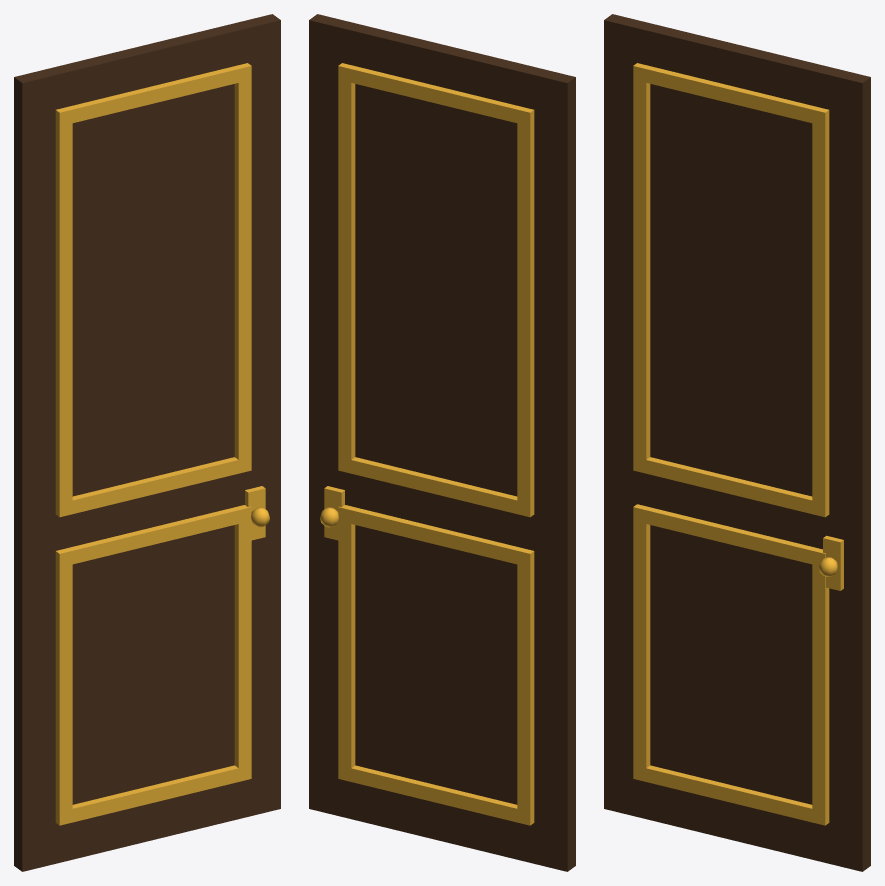
File: SM_Door_academy_wood_90x260.fbx
The picture shows the model from 3 angles, left to right: view 1: azimuth 30°, elevation 25°; view 2: azimuth 150°, elevation 25°; view 3: azimuth 330°, elevation 25°; orthographic projection.
Parts seen in each view (by area): view 1: SM_Door_academy_wood_90x260; view 2: SM_Door_academy_wood_90x260; view 3: SM_Door_academy_wood_90x260.
Part boxes in pixels (x1,y1,x2,y2): SM_Door_academy_wood_90x260: [14, 14, 280, 871]; SM_Door_academy_wood_90x260: [309, 14, 575, 871]; SM_Door_academy_wood_90x260: [604, 14, 870, 871].
Size of the model in its own units: 0.888 by 2.59 by 0.19.
